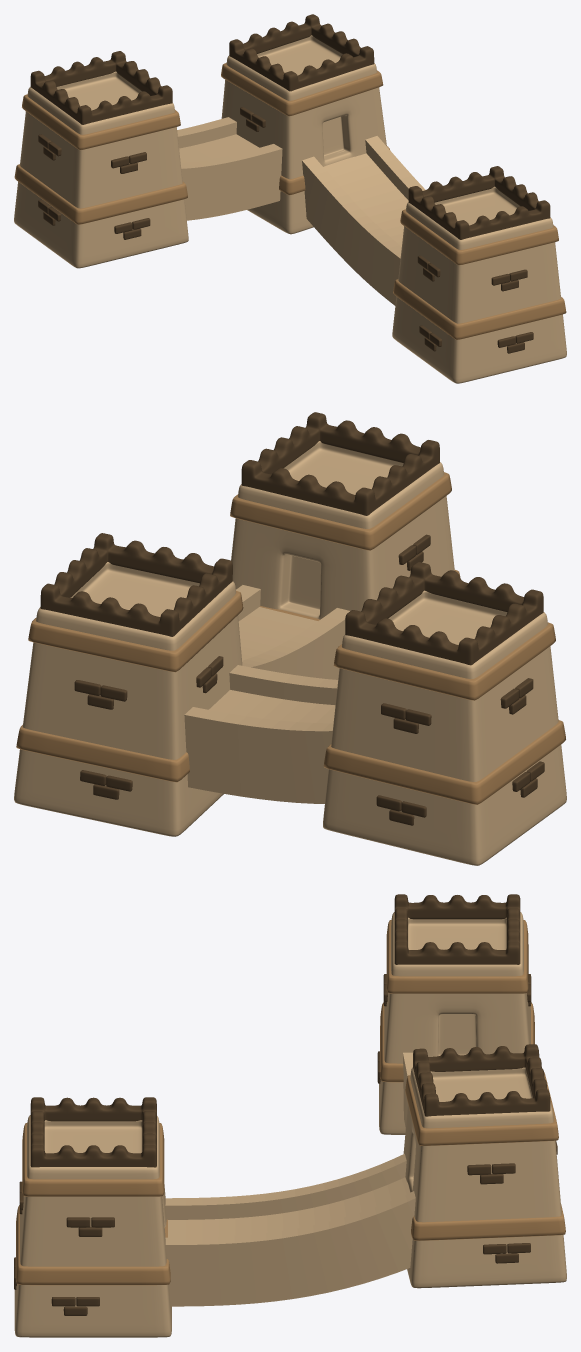
File: Great-Wall-of-China.glb
The picture shows the model from 3 angles, top to bottom: view 1: azimuth 30°, elevation 25°; view 2: azimuth 150°, elevation 25°; view 3: azimuth 270°, elevation 25°; orthographic projection. The views are drawn at different scales.
Visible parts, largest first — view 1: Wall, Road, Top Ornament, Wall Line, Wall Stone Ornament; view 2: Wall, Top Ornament, Wall Line, Road, Wall Stone Ornament; view 3: Wall, Road, Top Ornament, Wall Line, Wall Stone Ornament.
Boxes of the visible parts, x1,y1,x2,y2 form: Wall: (14,35,566,383); Road: (177,117,425,305); Top Ornament: (30,14,550,239); Wall Line: (14,63,566,339); Wall Stone Ornament: (38,107,533,353); Wall: (14,441,566,865); Top Ornament: (40,412,543,665); Wall Line: (16,472,565,804); Road: (184,585,349,803); Wall Stone Ornament: (74,534,544,825); Wall: (14,912,566,1337); Road: (165,1052,415,1306); Top Ornament: (30,894,550,1167); Wall Line: (16,920,565,1285); Wall Stone Ornament: (14,974,557,1315).
Bounding box in the file's own units: 1.55 × 0.9196 × 1.82.
